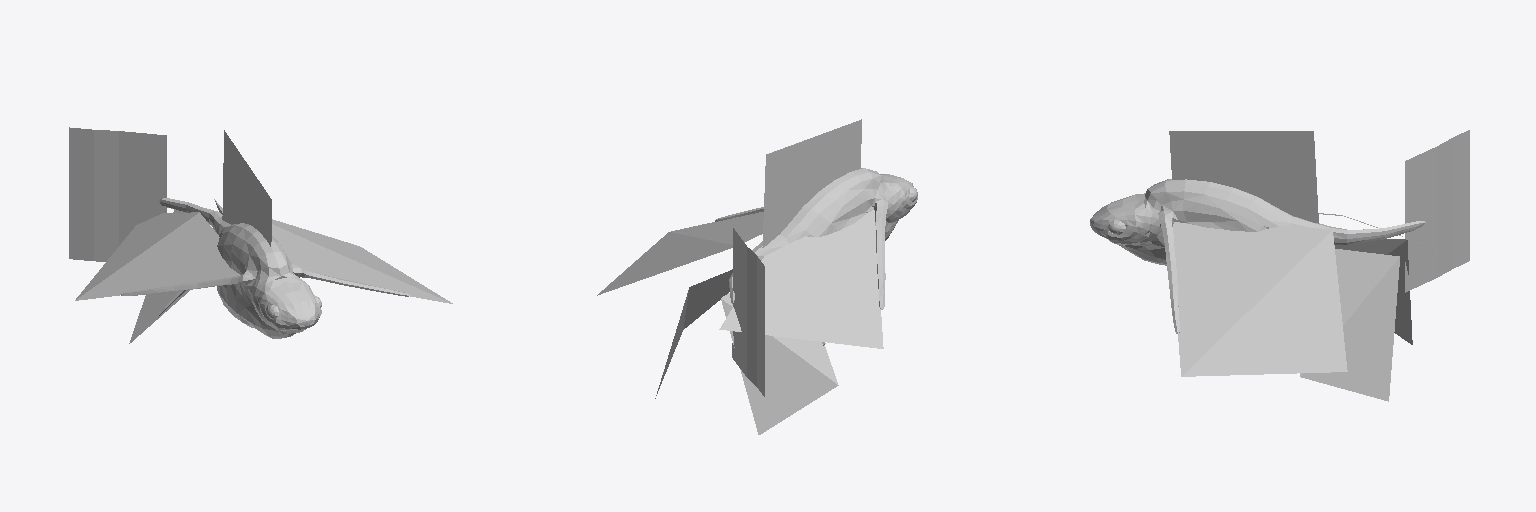
Rendered from fish_000019.obj.
3 renders of one model, left to right at view 1: azimuth 30°, elevation 25°; view 2: azimuth 150°, elevation 25°; view 3: azimuth 270°, elevation 25°, orthographic.
Parts seen in each view (by area): view 1: flyingFish_low_StingrayPBS1_0; view 2: flyingFish_low_StingrayPBS1_0; view 3: flyingFish_low_StingrayPBS1_0.
Part boxes in pixels (left/top/right/bottom): flyingFish_low_StingrayPBS1_0: left=69, top=127, right=452, bottom=343; flyingFish_low_StingrayPBS1_0: left=597, top=119, right=917, bottom=434; flyingFish_low_StingrayPBS1_0: left=1090, top=130, right=1469, bottom=401.
Bounding box in the file's own units: 16.83 × 12.71 × 18.64.